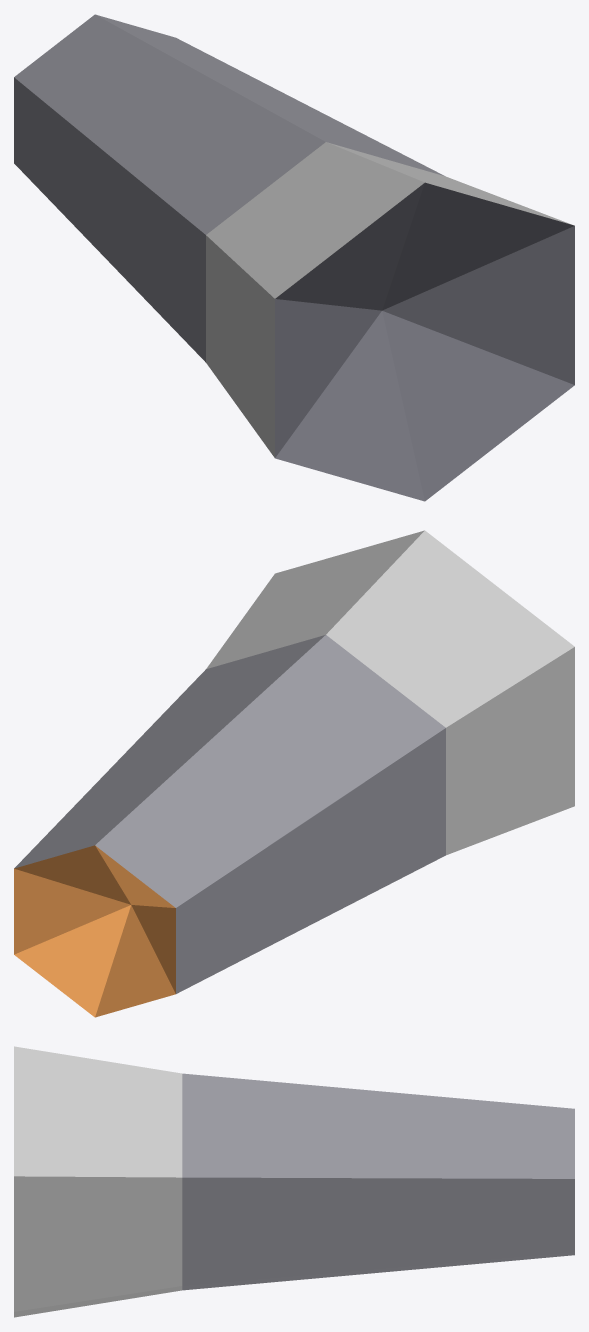
File: engine_scarab.obj
The picture shows the model from 3 angles, top to bottom: view 1: azimuth 30°, elevation 25°; view 2: azimuth 150°, elevation 25°; view 3: azimuth 270°, elevation 25°; orthographic projection. The views are drawn at different scales.
Visible parts, largest first — view 1: engine_scarab; view 2: engine_scarab; view 3: engine_scarab.
Boxes of the visible parts, x1,y1,x2,y2 form: engine_scarab: (14, 14, 574, 501); engine_scarab: (14, 530, 574, 1017); engine_scarab: (14, 1046, 574, 1317).
Size of the model in its own units: 1.73 by 1.76 by 3.3.
